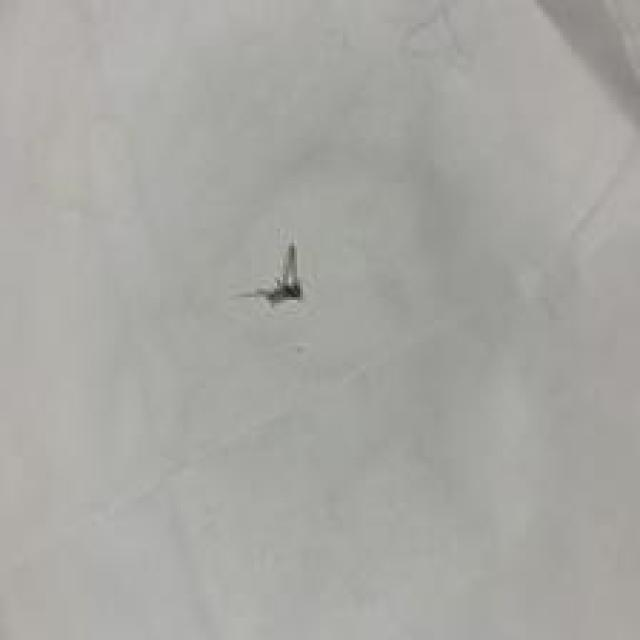Culex: (239, 240, 304, 309)
